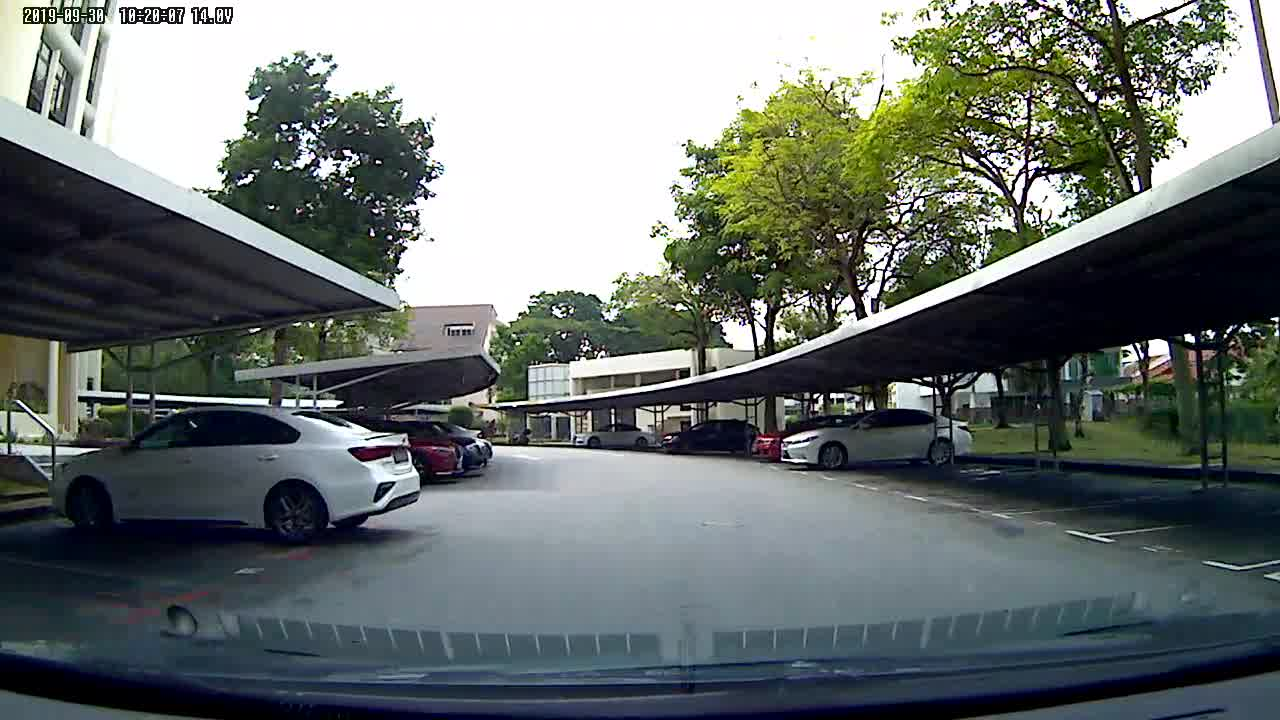car: (47, 401, 426, 540), (782, 409, 973, 473), (417, 408, 498, 487), (661, 417, 763, 464), (568, 421, 661, 459)
